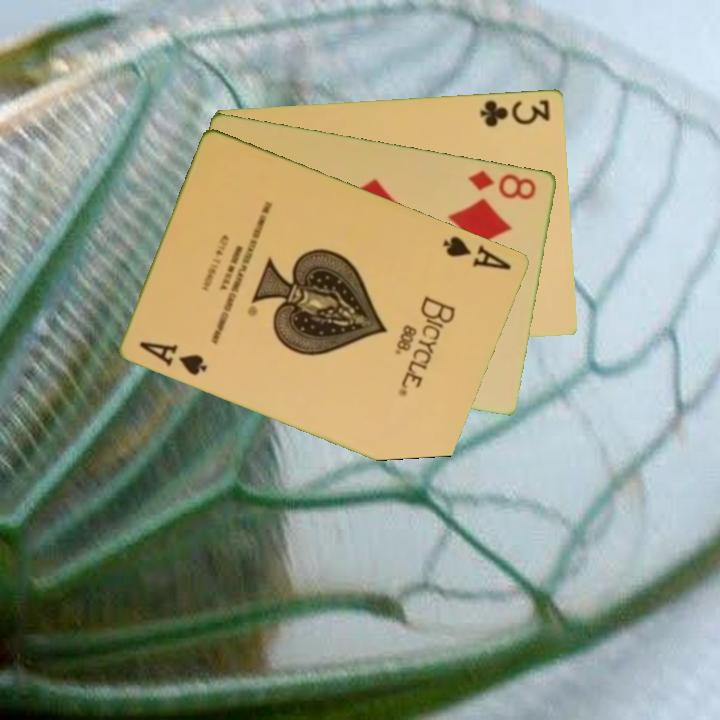3c: (477, 96, 553, 129)
8d: (465, 166, 540, 203)
As: (439, 232, 515, 273), (136, 337, 211, 378)
